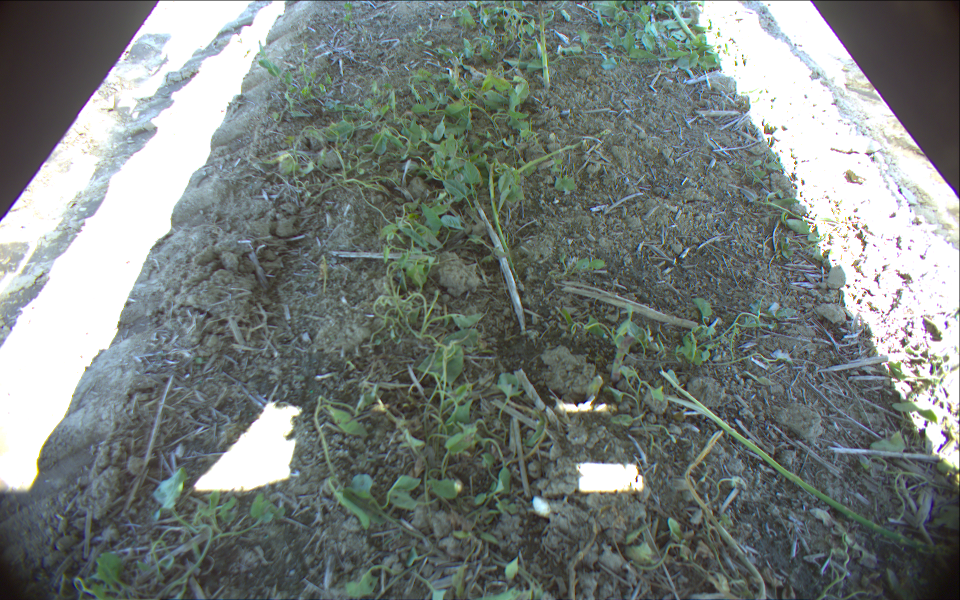aspa: (535, 1, 554, 90)
